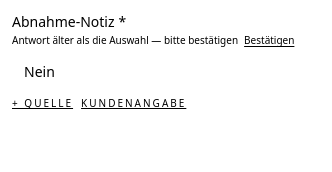
it: DynamicField — stale answer badge (U-1) › "Bestätigen" marks the unchanged value pending (the autosave persists it) and removes the badge
Step 1. Click the button with test id "stale-answer-confirm" → click(269, 41), box [244,33,294,48]
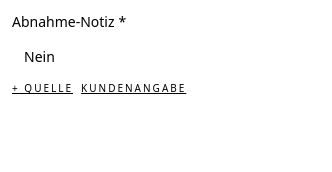
Now the element with test id "stale-answer-badge" is gone
